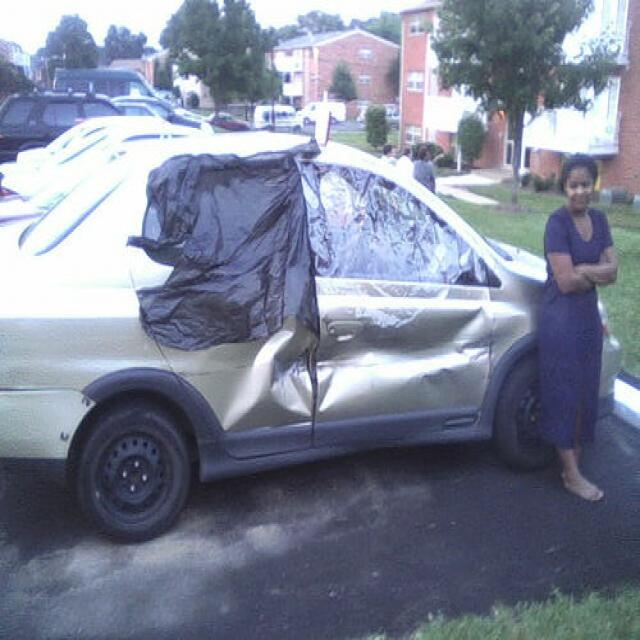Car: (0, 123, 622, 522)
